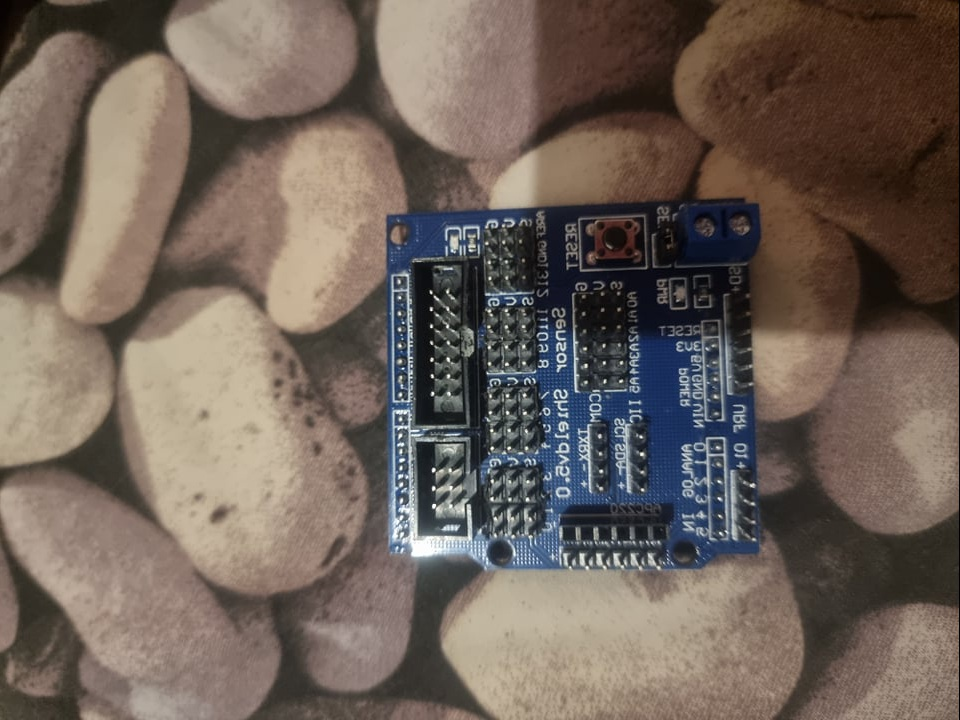5V EXPANSION: (387, 191, 773, 574)
